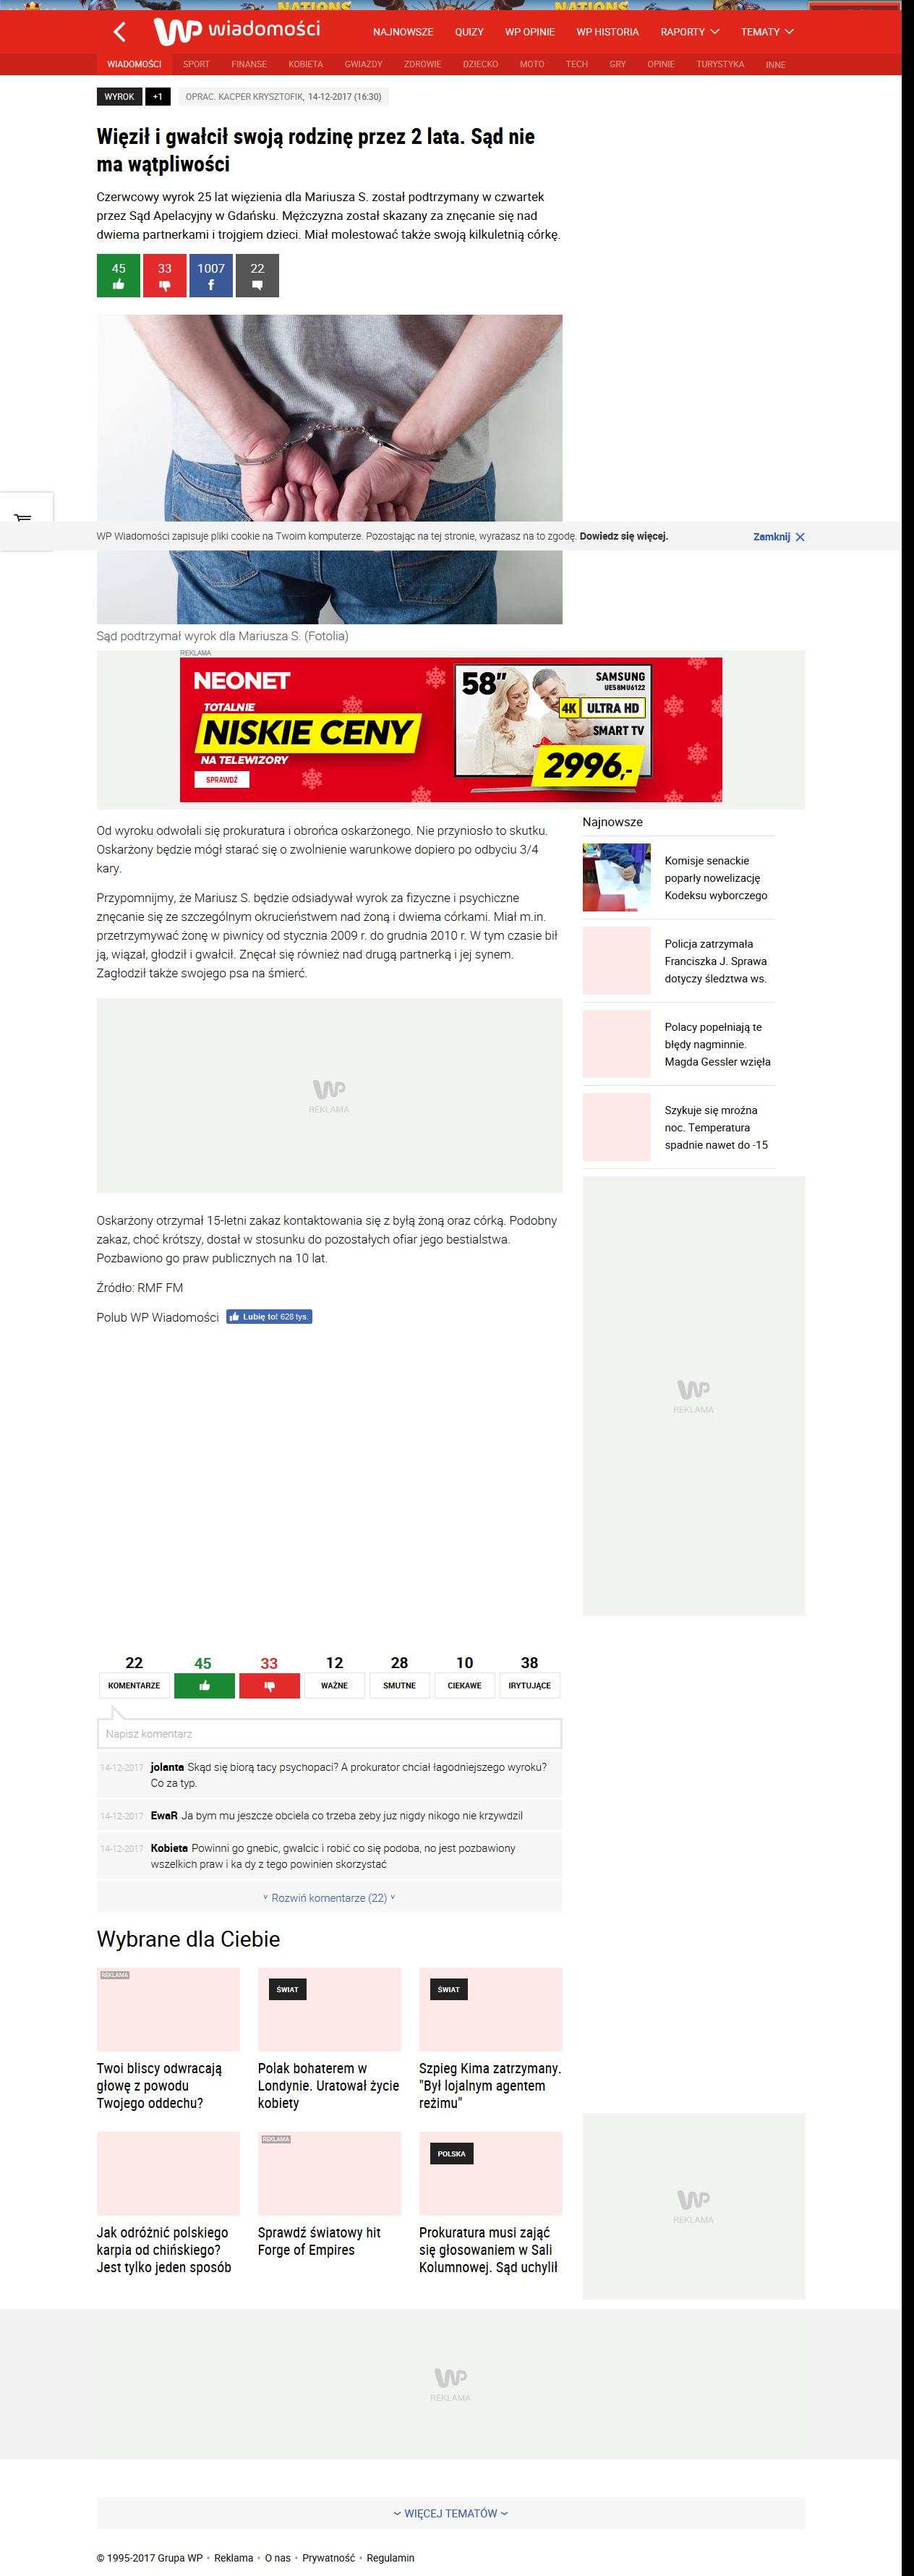title: (95, 126, 537, 174)
